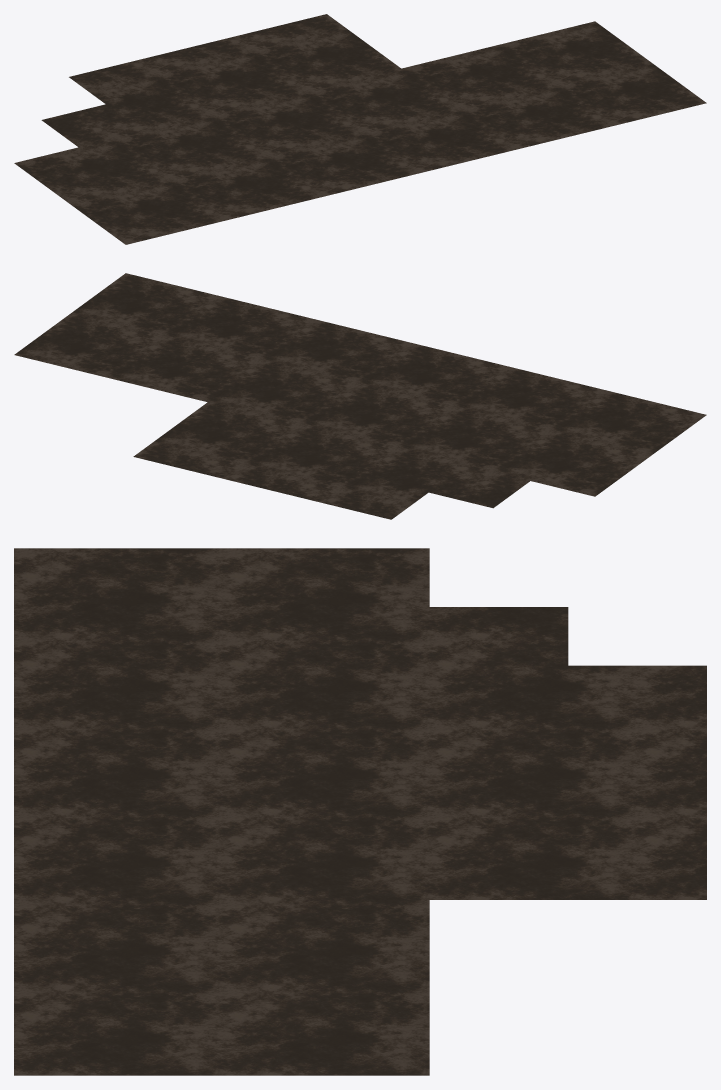
The model's file is floor_-4_-5.glb.
3 renders of one model, top to bottom at view 1: azimuth 30°, elevation 25°; view 2: azimuth 150°, elevation 25°; view 3: azimuth 270°, elevation 25°, orthographic. The views are drawn at different scales.
Parts seen in each view (by area): view 1: floor_-4_-5; view 2: floor_-4_-5; view 3: floor_-4_-5.
Boxes of the visible parts, left/top/right/bottom form: floor_-4_-5: left=14, top=14, right=706, bottom=244; floor_-4_-5: left=14, top=273, right=706, bottom=519; floor_-4_-5: left=14, top=548, right=706, bottom=1075.
Size of the model in its own units: 36 by 0 by 20.
1 material, 1 textured.
